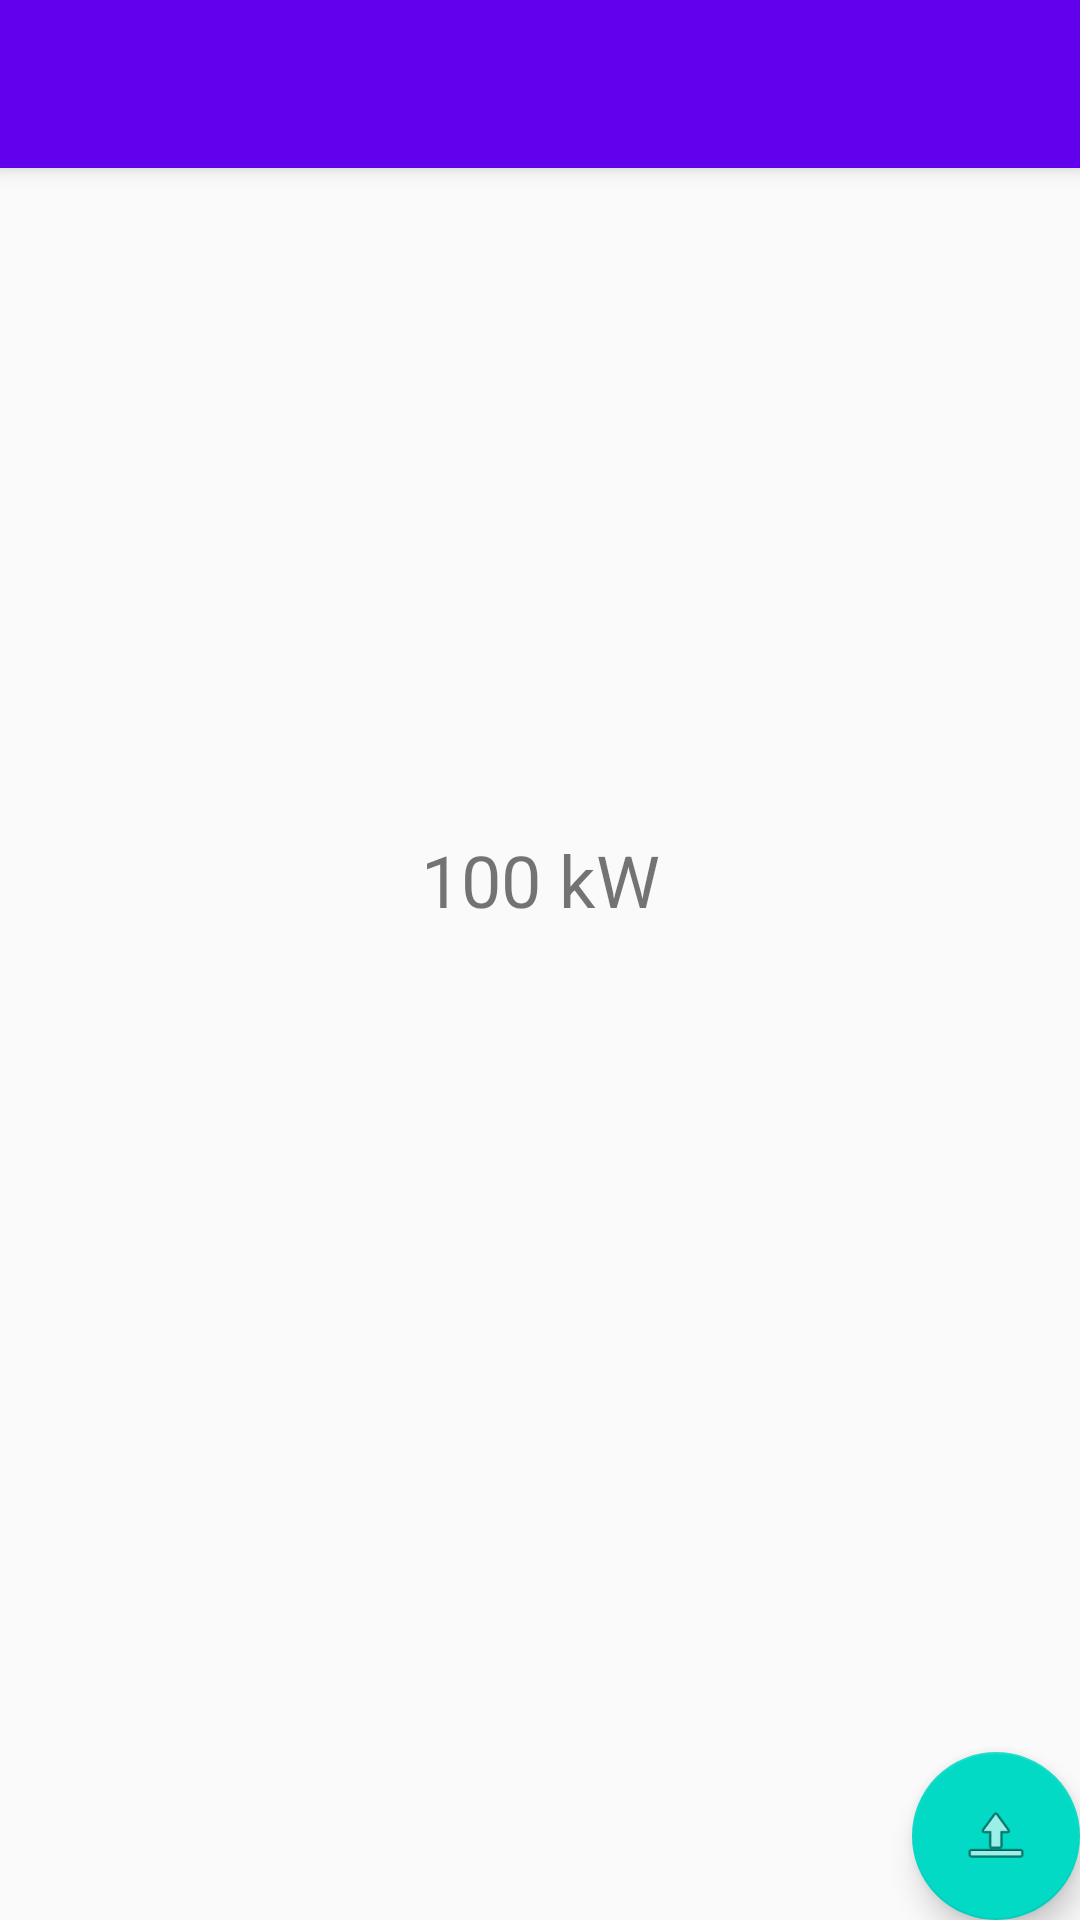

Named icons in this screenshot (1080*1920) and their bounding boxes, (x1, y1, x2, y2):
upload: (912, 1752, 1080, 1920)
